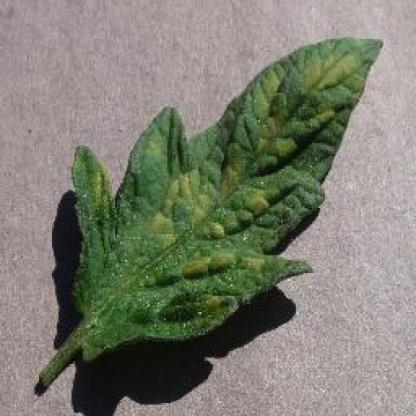Tomato_Leaf_Mold: (69, 34, 383, 346)
